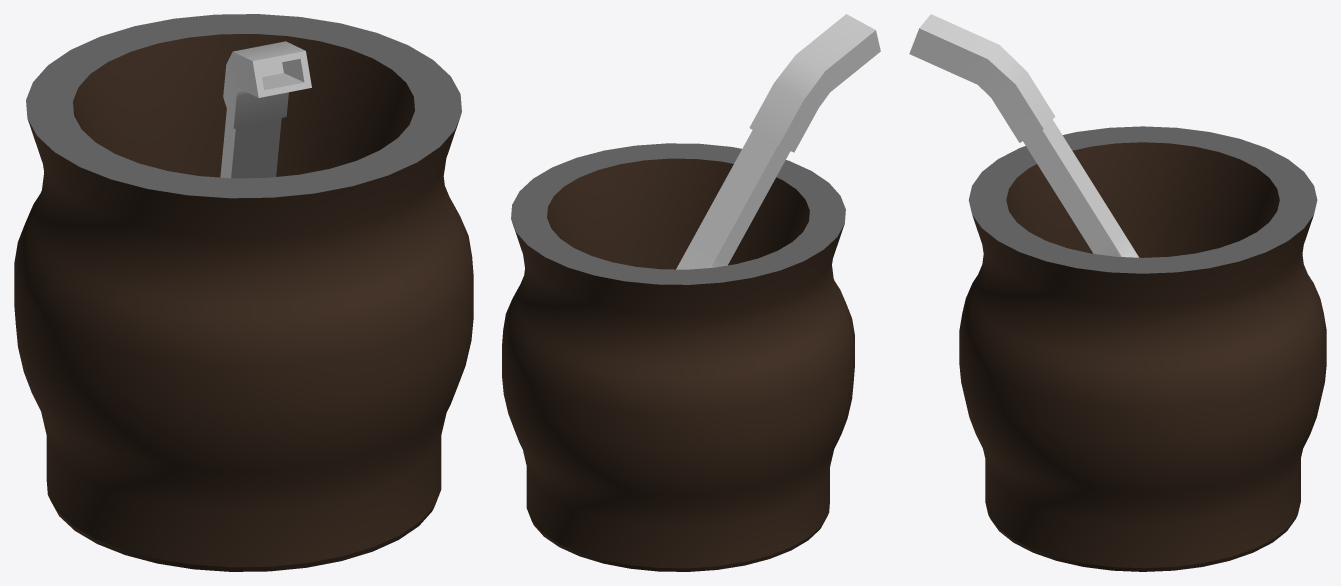
The model's file is Mate.fbx.
3 views of the same model, side by side, from view 1: azimuth 30°, elevation 25°; view 2: azimuth 150°, elevation 25°; view 3: azimuth 270°, elevation 25° (orthographic). The views are drawn at different scales.
Parts seen in each view (by area): view 1: Mate, Bombilla; view 2: Mate, Bombilla; view 3: Mate, Bombilla.
Part boxes in pixels (<box>): Mate: <box>14,14,473,571</box>; Bombilla: <box>220,41,311,178</box>; Mate: <box>502,143,854,571</box>; Bombilla: <box>676,14,880,269</box>; Mate: <box>959,126,1326,571</box>; Bombilla: <box>909,14,1138,257</box>.
Bounding box in the file's own units: 322 × 435 × 366.
